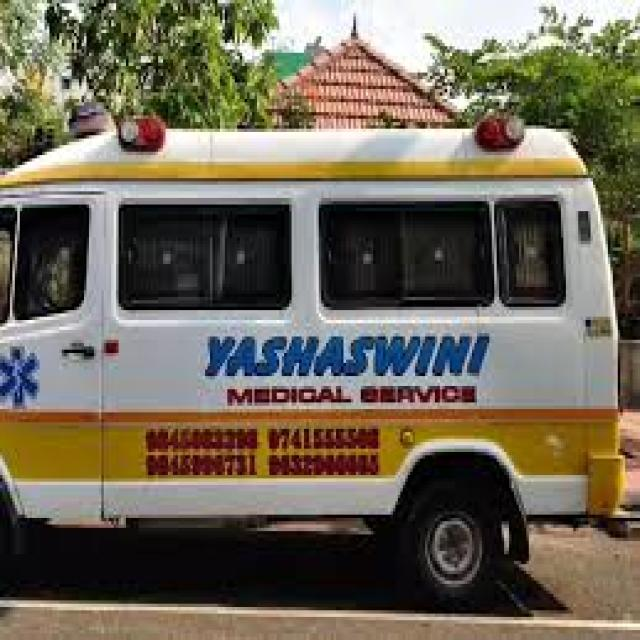ambulance: (180, 610, 521, 630), (526, 620, 633, 633), (581, 544, 613, 577)
